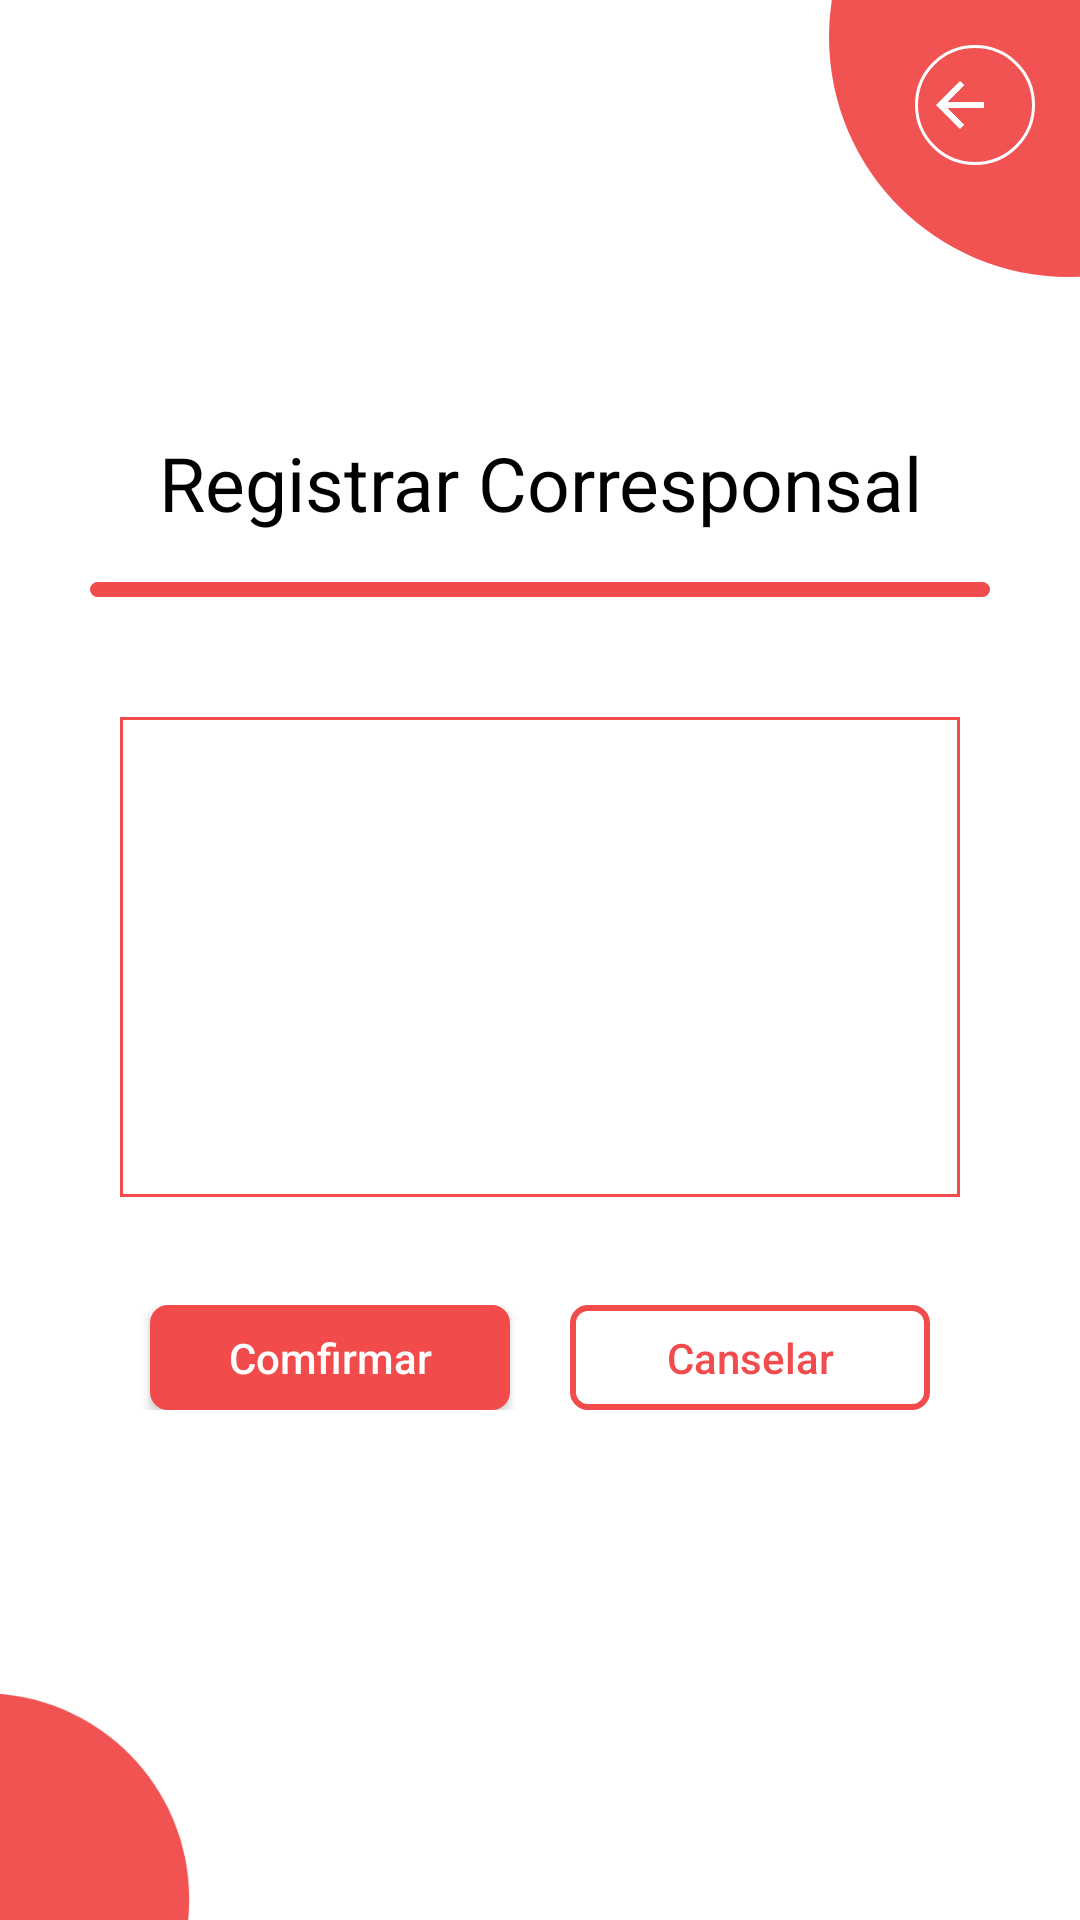

Named icons in this screenshot (1080 × 1920) and their centers, (x,y):
back: (975,105)
